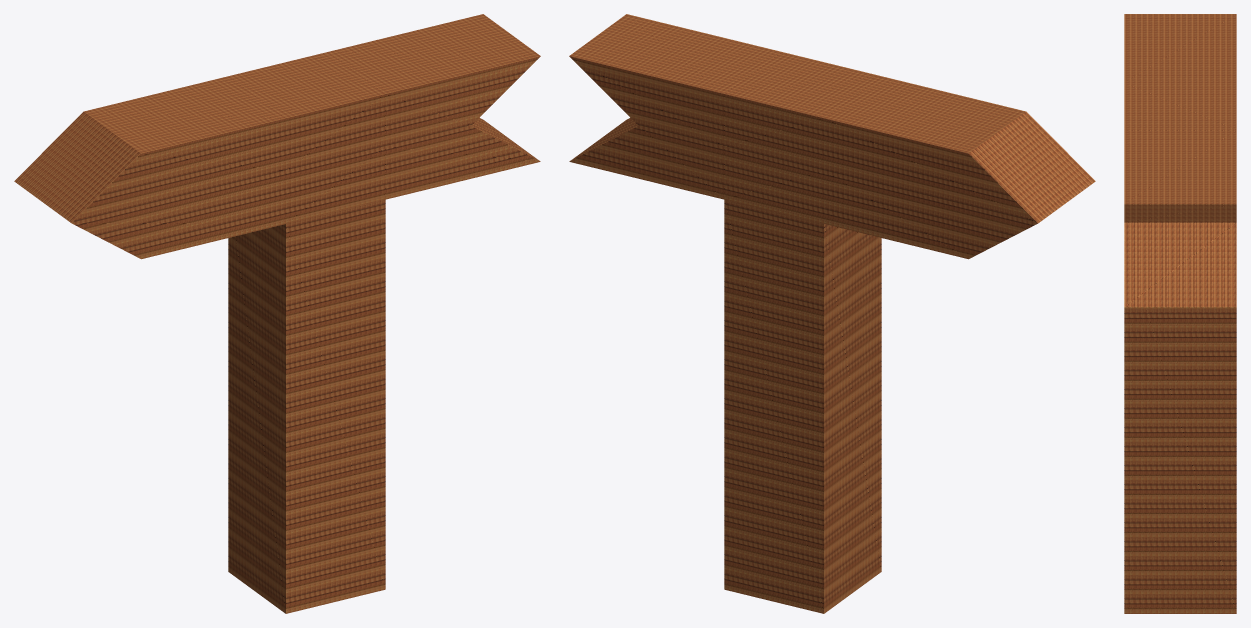
Rendered from TestSign.glb.
The picture shows the model from 3 angles, left to right: view 1: azimuth 30°, elevation 25°; view 2: azimuth 150°, elevation 25°; view 3: azimuth 270°, elevation 25°; orthographic projection. The views are drawn at different scales.
Visible parts, largest first — view 1: Cube.004; view 2: Cube.004; view 3: Cube.004.
Boxes of the visible parts, x1,y1,x2,y2 form: Cube.004: [14, 14, 540, 613]; Cube.004: [569, 14, 1095, 613]; Cube.004: [1124, 14, 1236, 613].
Size of the model in its own units: 0.3533 by 0.3565 by 0.0751.
Materials: 1 (1 with a texture image).
